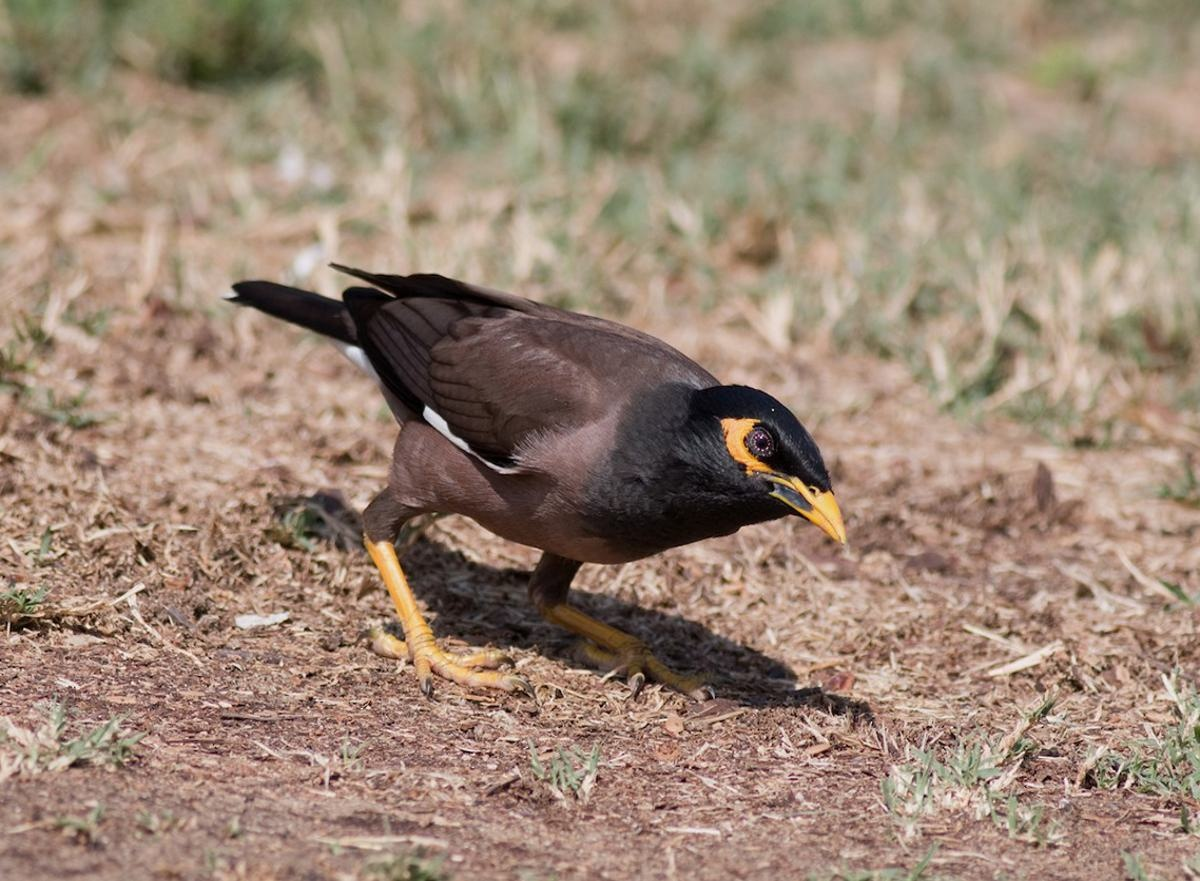myna: (260, 226, 876, 695)
